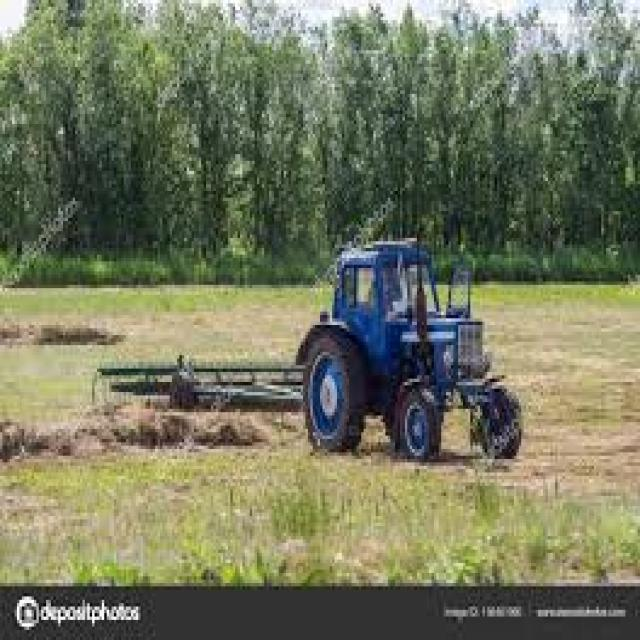Tratores - v5 YOLO V8L 2024-11-13: (288, 232, 536, 458)
